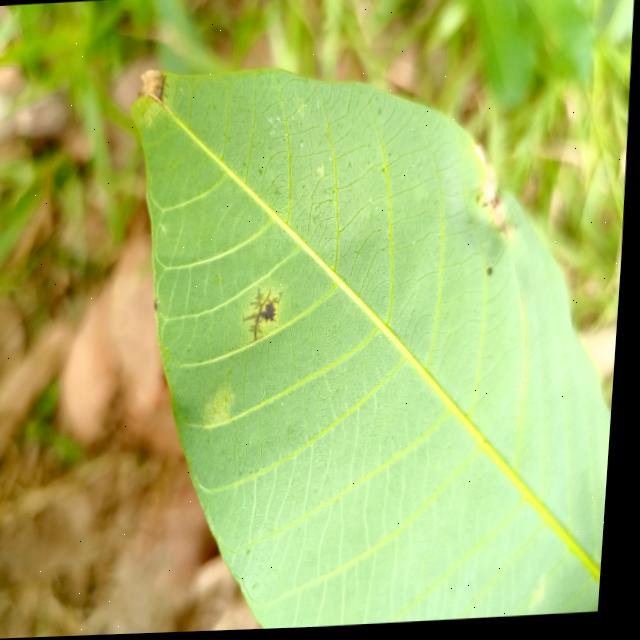Corynespora: (244, 286, 284, 344)
Leaf-Blight: (472, 147, 517, 246), (139, 70, 164, 103)
